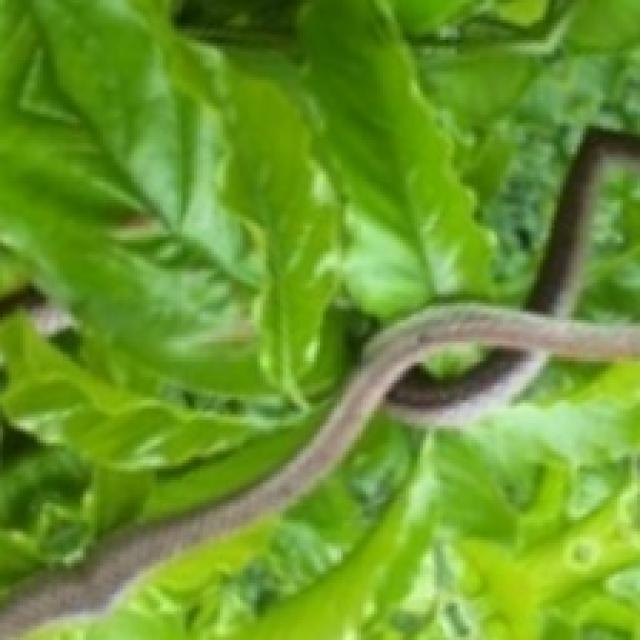paradise tree snake: (23, 363, 637, 637), (534, 137, 637, 317)
